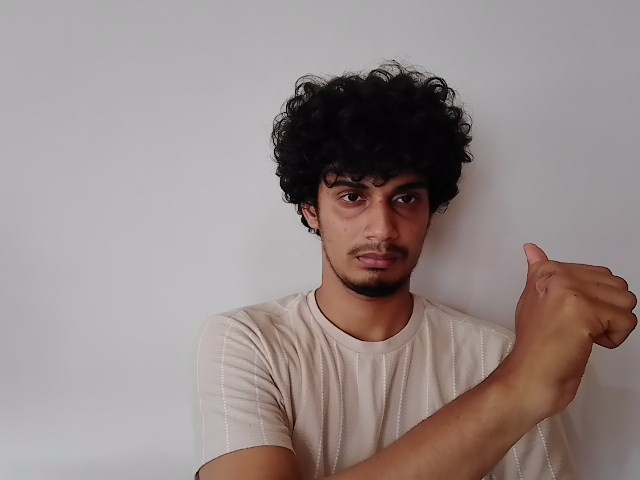how: (508, 238, 640, 426)
